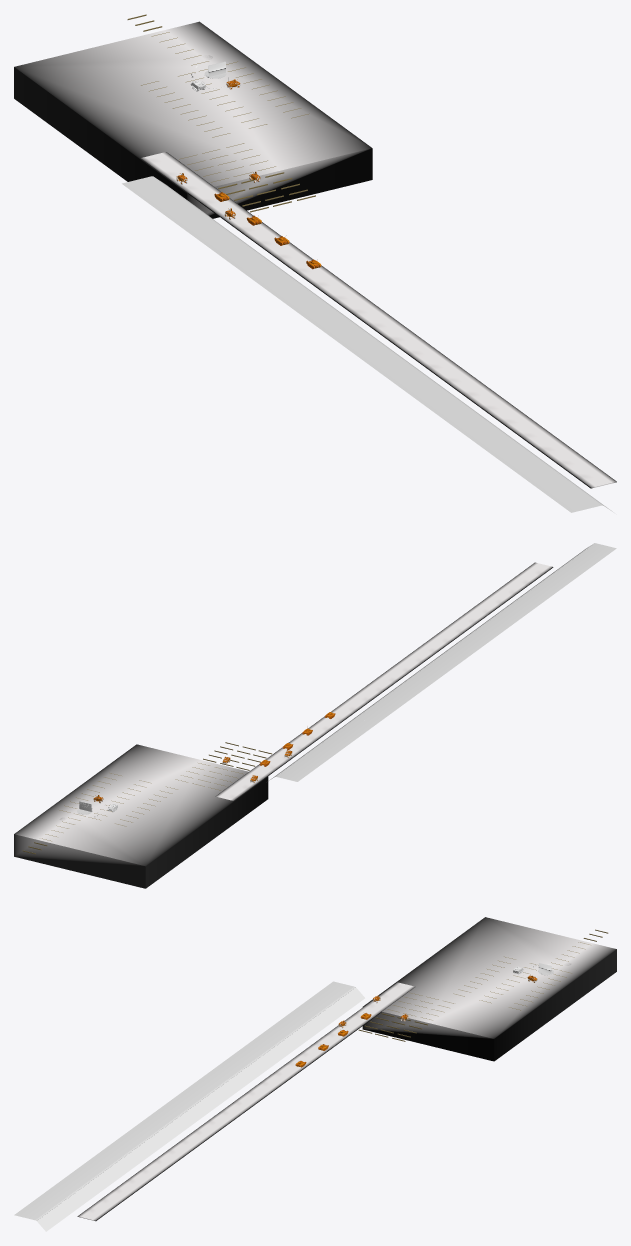
The model's file is SceneTemplateMainMenu_export2.fbx.
The picture shows the model from 3 angles, top to bottom: view 1: azimuth 30°, elevation 25°; view 2: azimuth 150°, elevation 25°; view 3: azimuth 330°, elevation 25°; orthographic projection. The views are drawn at different scales.
Parts seen in each view (by area): view 1: new, Empty.006|wall|Dupli|, Empty.005|wall|Dupli|, Empty.007|wall|Dupli|, wall; view 2: new, Empty.006|wall|Dupli|, Empty.007|wall|Dupli|, wall, Empty.005|wall|Dupli|; view 3: new, Empty.006|wall|Dupli|, Empty.007|wall|Dupli|, Empty.005|wall|Dupli|, wall.
Part boxes in pixels (x1,y1,x2,y2): new: (14,14,616,488); Empty.006|wall|Dupli|: (234,258,388,348); Empty.005|wall|Dupli|: (347,341,501,430); Empty.007|wall|Dupli|: (459,423,613,512); wall: (122,176,274,265); new: (14,562,553,888); Empty.006|wall|Dupli|: (348,660,456,723); Empty.007|wall|Dupli|: (508,543,616,606); wall: (269,718,376,781); Empty.005|wall|Dupli|: (429,601,536,664); new: (77,917,616,1221); Empty.006|wall|Dupli|: (174,1040,285,1114); Empty.007|wall|Dupli|: (14,1157,125,1231); Empty.005|wall|Dupli|: (94,1098,205,1172); wall: (254,981,364,1056).
Bounding box in the file's own units: 1469 × 269 × 6726.
